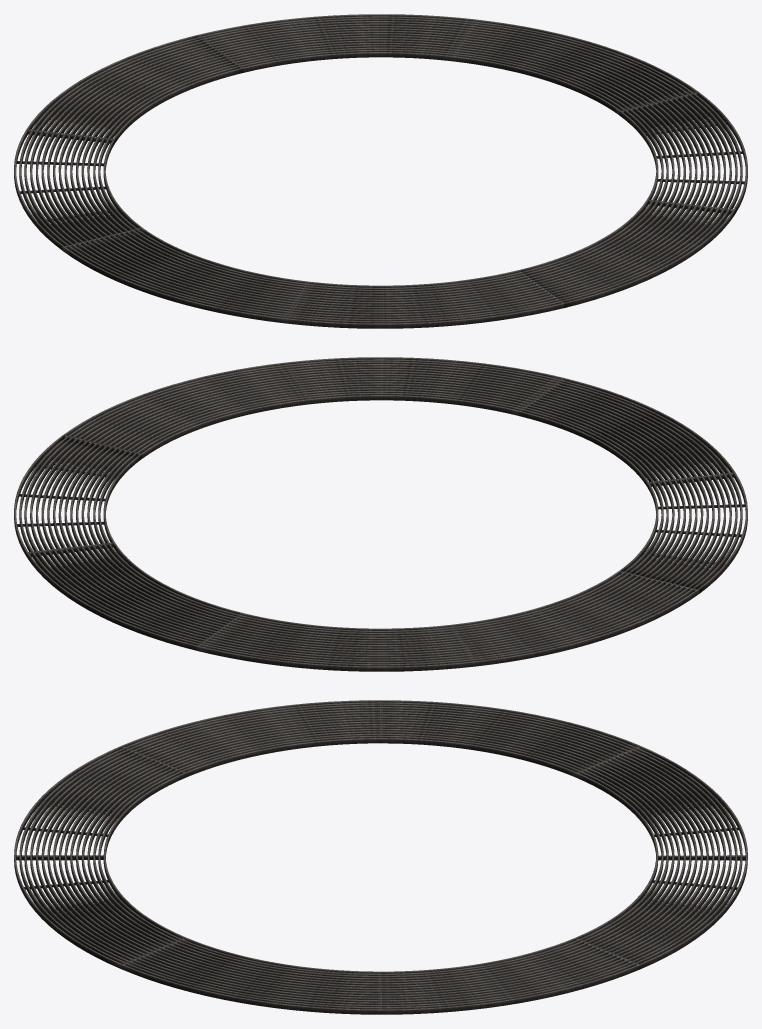
The model's file is 04_02_catwalk_reactor.dae.
3 views of the same model, one above another, from view 1: azimuth 30°, elevation 25°; view 2: azimuth 150°, elevation 25°; view 3: azimuth 270°, elevation 25° (orthographic).
Visible parts, largest first — view 1: polySurface262, polySurface264, polySurface263, polySurface265; view 2: polySurface265, polySurface263, polySurface264, polySurface262; view 3: polySurface264, polySurface263, polySurface265, polySurface262.
Part boxes in pixels (box(x1,y1,x2,y2)): polySurface262: box(62, 227, 563, 328); polySurface264: box(198, 14, 698, 114); polySurface263: box(519, 92, 747, 307); polySurface265: box(14, 35, 243, 250); polySurface265: box(197, 570, 698, 671); polySurface263: box(64, 357, 563, 457); polySurface264: box(14, 434, 242, 650); polySurface262: box(518, 378, 747, 594); polySurface264: box(380, 855, 747, 1014); polySurface263: box(14, 855, 380, 1014); polySurface265: box(381, 700, 747, 855); polySurface262: box(14, 700, 381, 856).
Bounding box in the file's own units: 8 × 0.0558 × 8.
